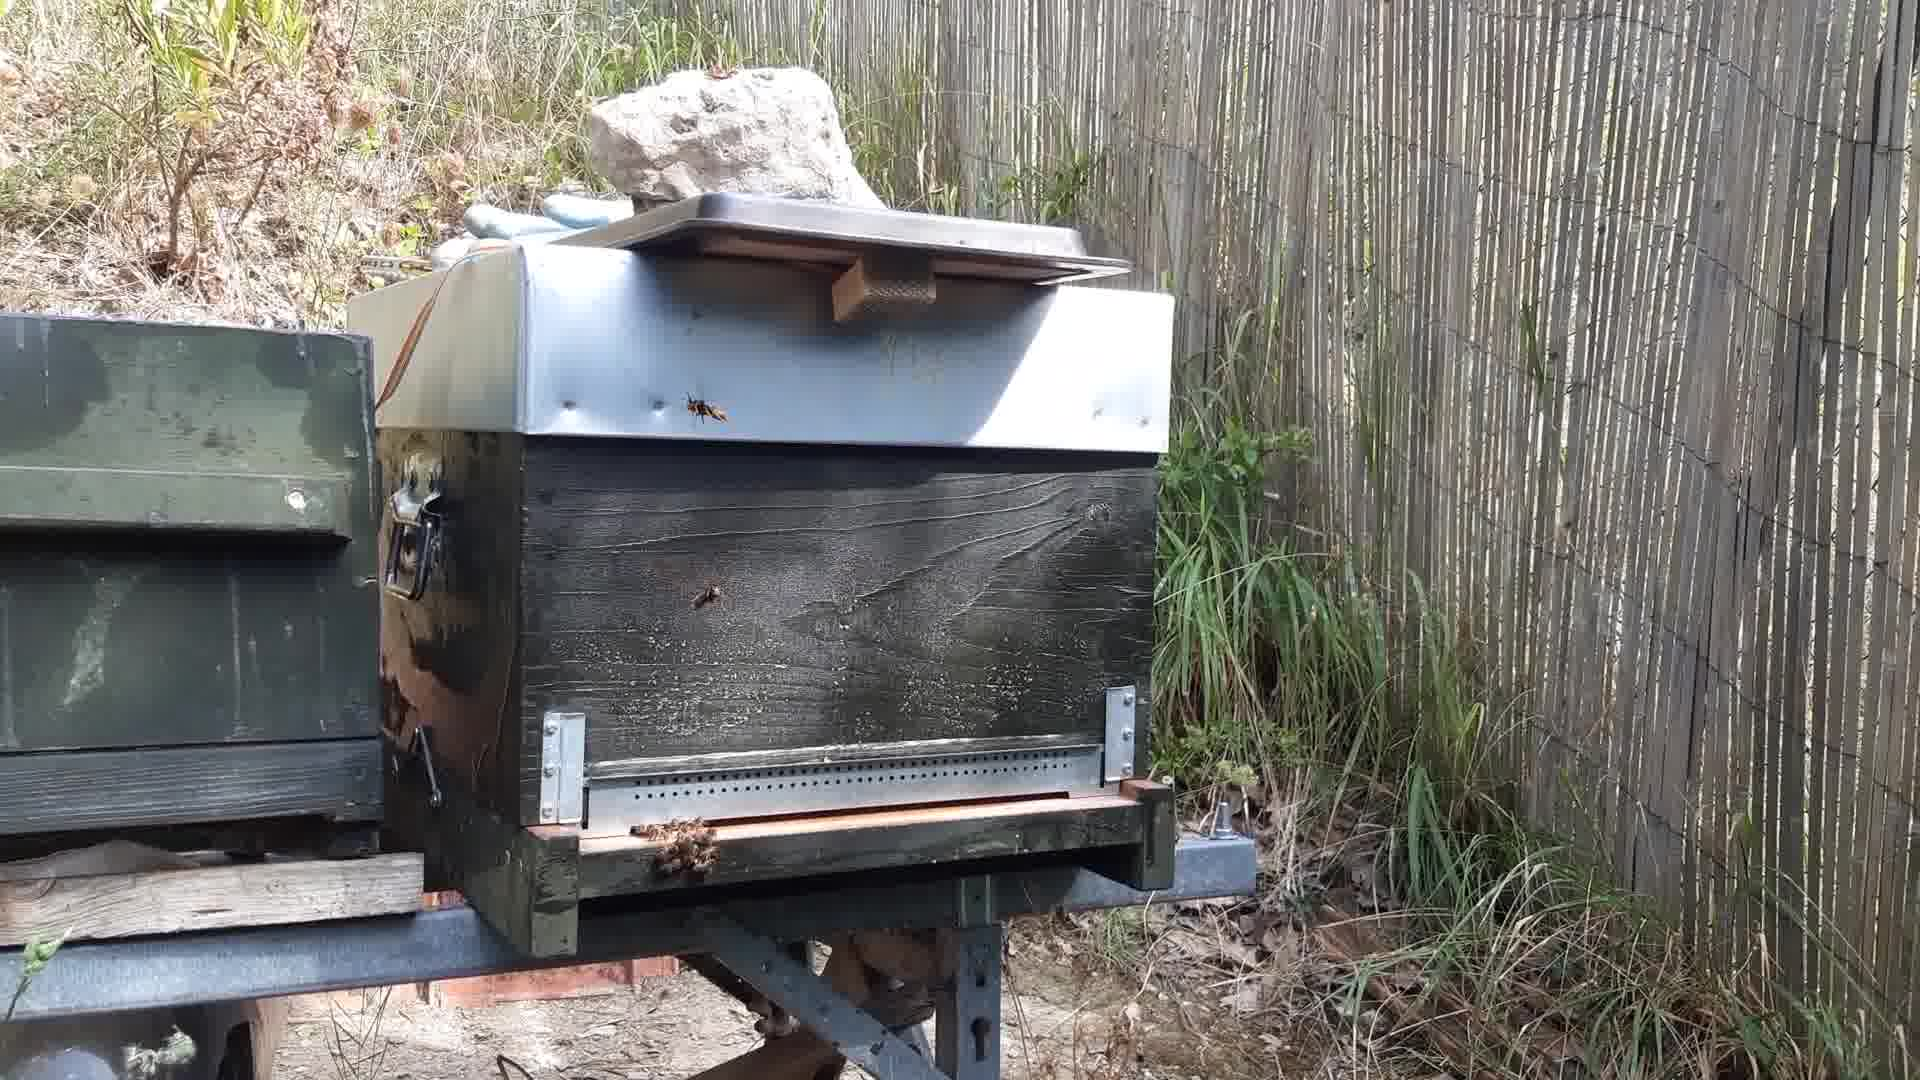bee: (644, 814, 727, 882)
hornet: (680, 392, 735, 430), (688, 583, 724, 615)
